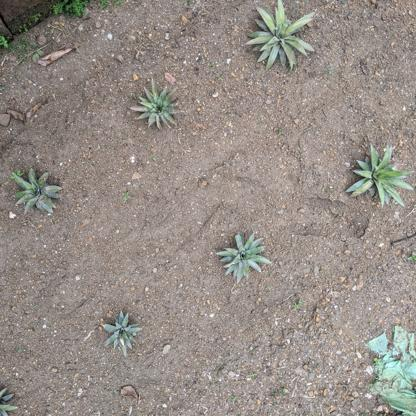pineapple: (243, 1, 320, 68), (343, 142, 413, 211), (127, 76, 183, 133), (6, 166, 64, 220), (214, 231, 273, 284), (97, 309, 144, 356), (1, 383, 20, 416)
